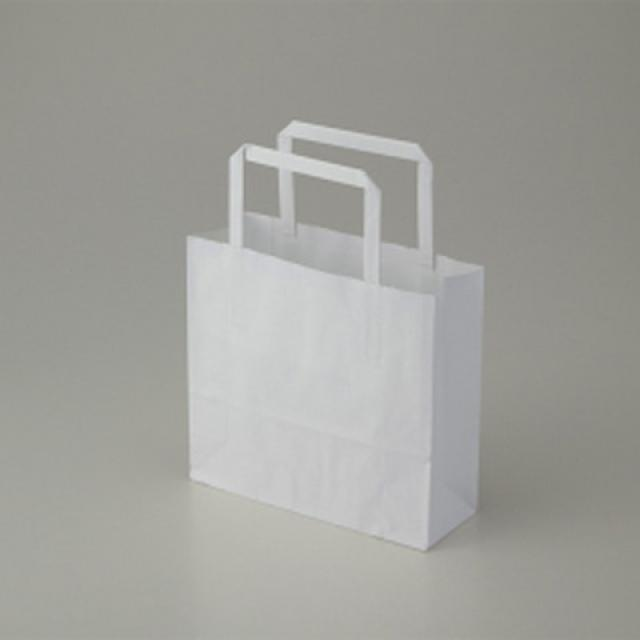paper bag: (175, 116, 488, 553)
